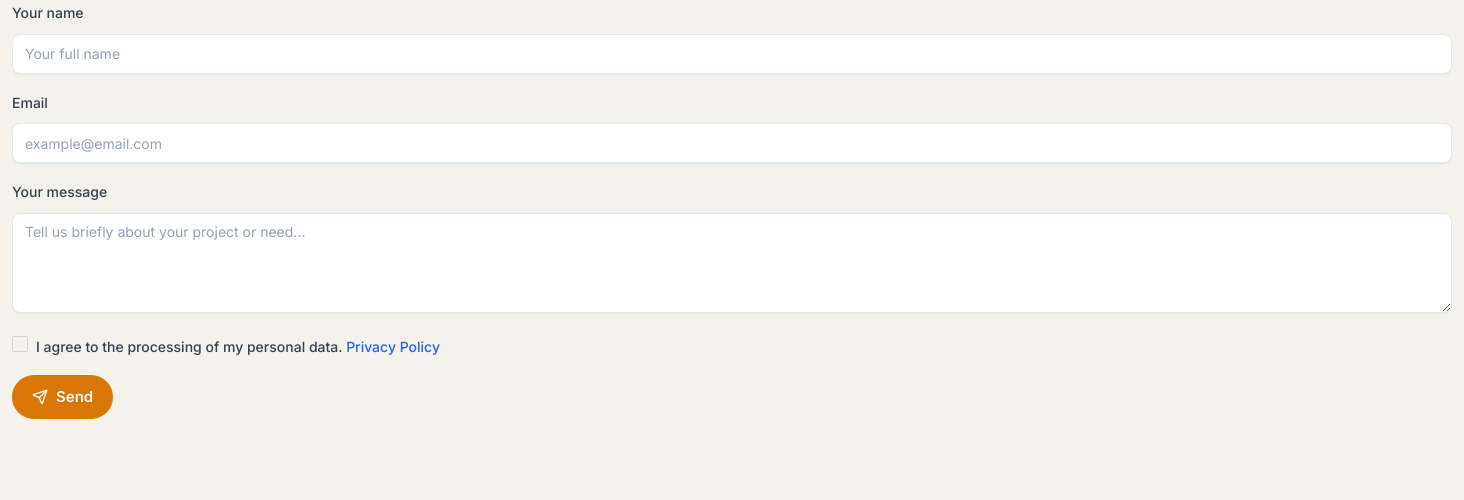
Scenario: ContactForm › form submission › shows success message on valid submission
The width and height of the screenshot is (1464, 500).
Type "John Doe" into the field labelled "Your name". click: (732, 54)
box: [12,34,1452,74]
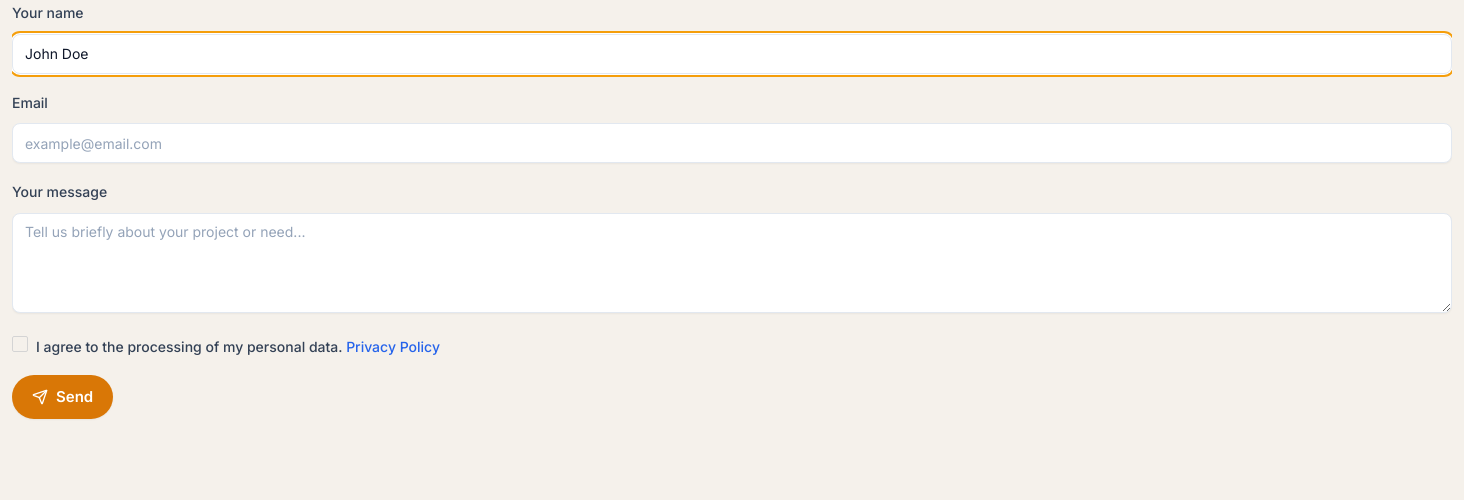
Type "john@example.com" into the field labelled "Email". click: (732, 143)
box: [12,123,1452,163]
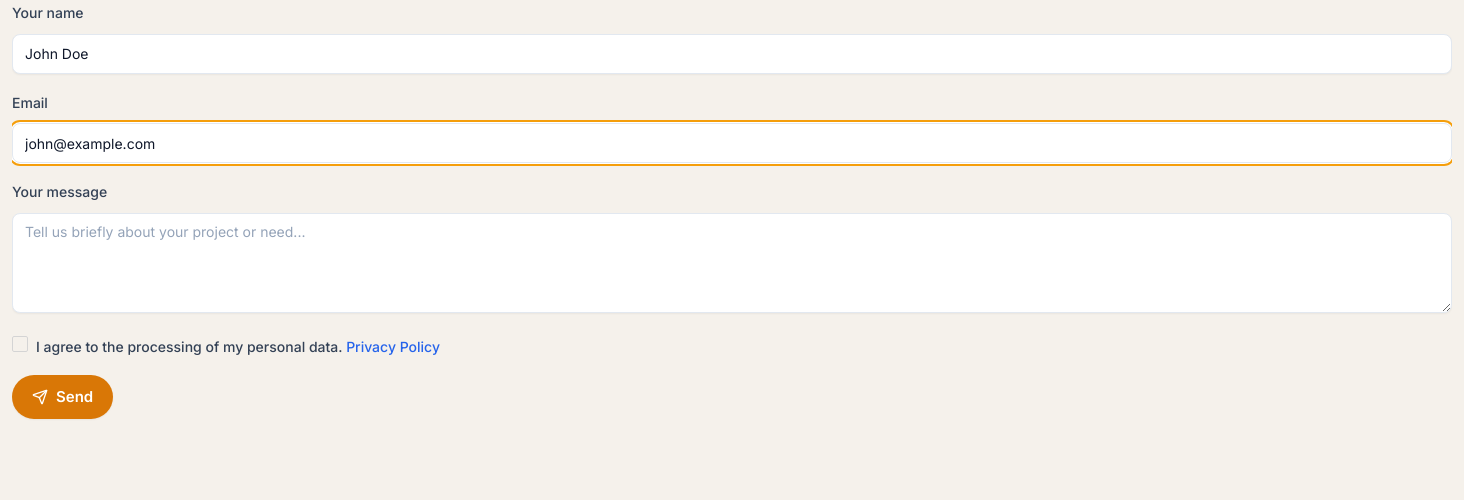
Type "This is my message" into the text box labelled "Your message". click: (732, 263)
box: [12,213,1452,313]
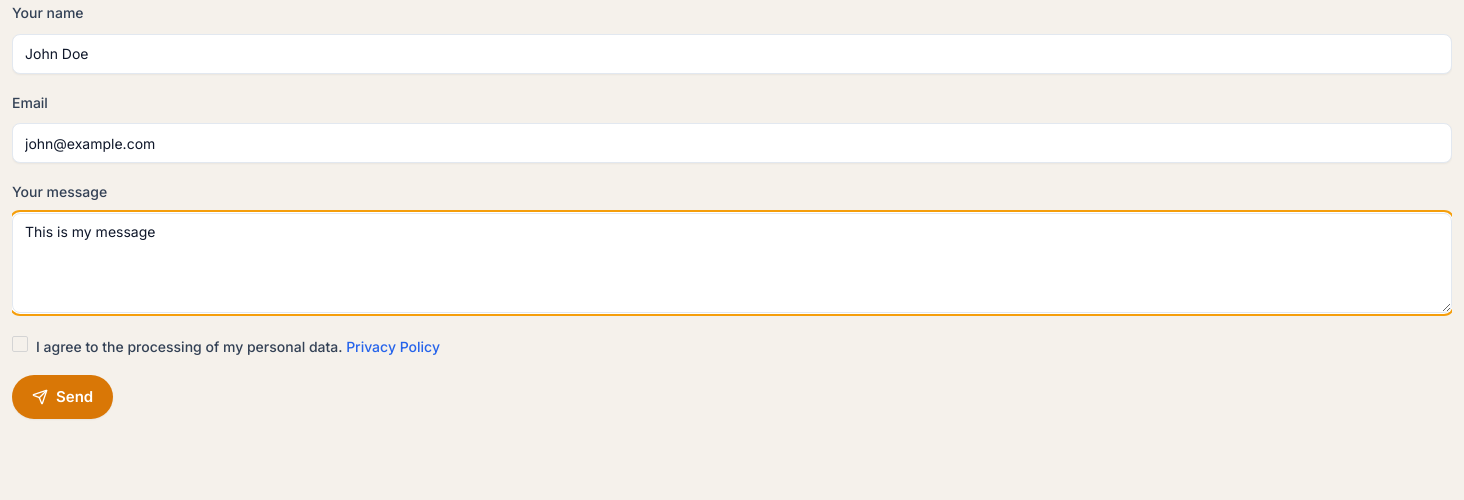
Click the checkbox. click: click(20, 344)
box: [12,336,28,352]
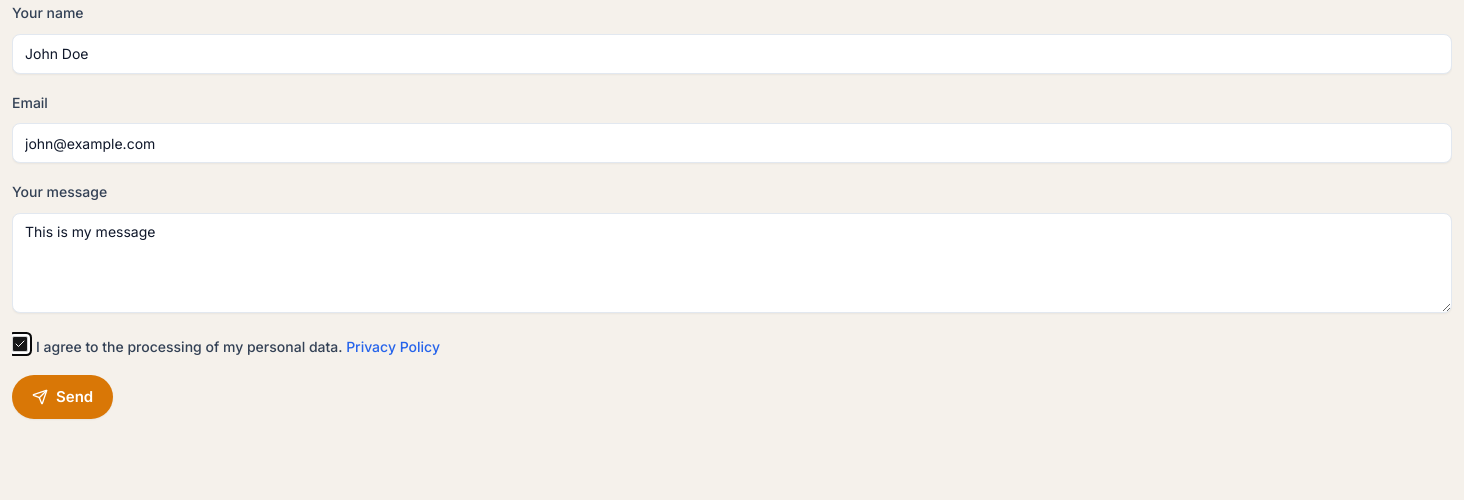
Click the button "Send". click: click(63, 397)
box: [12,375,113,419]
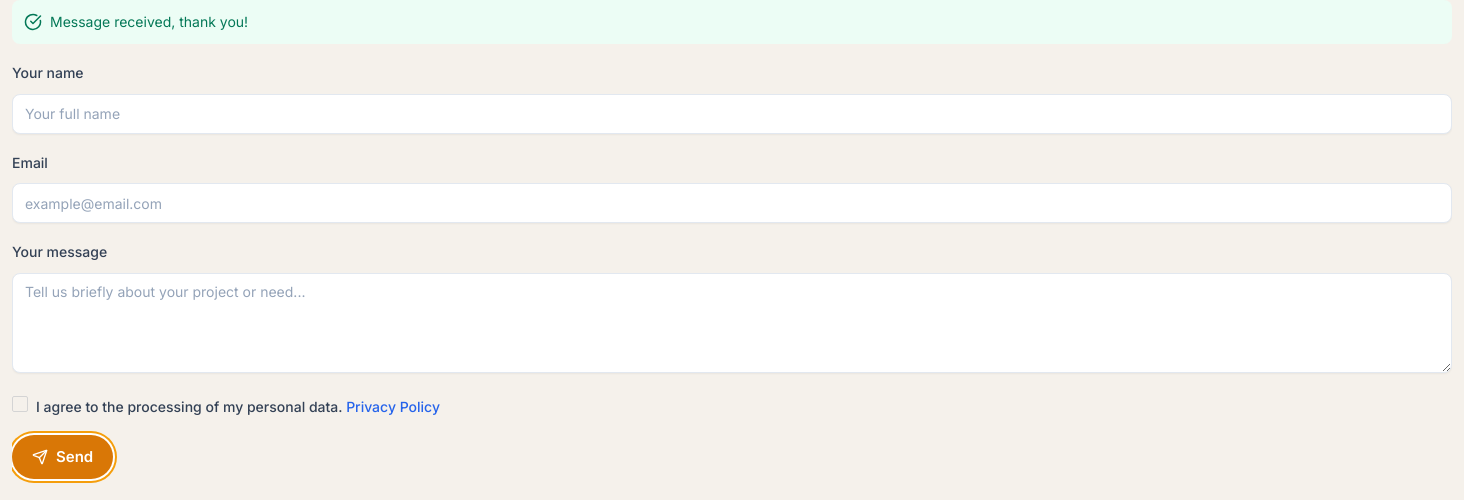
Now the text "Message received, thank you!" is shown, box [12,0,1452,44]
